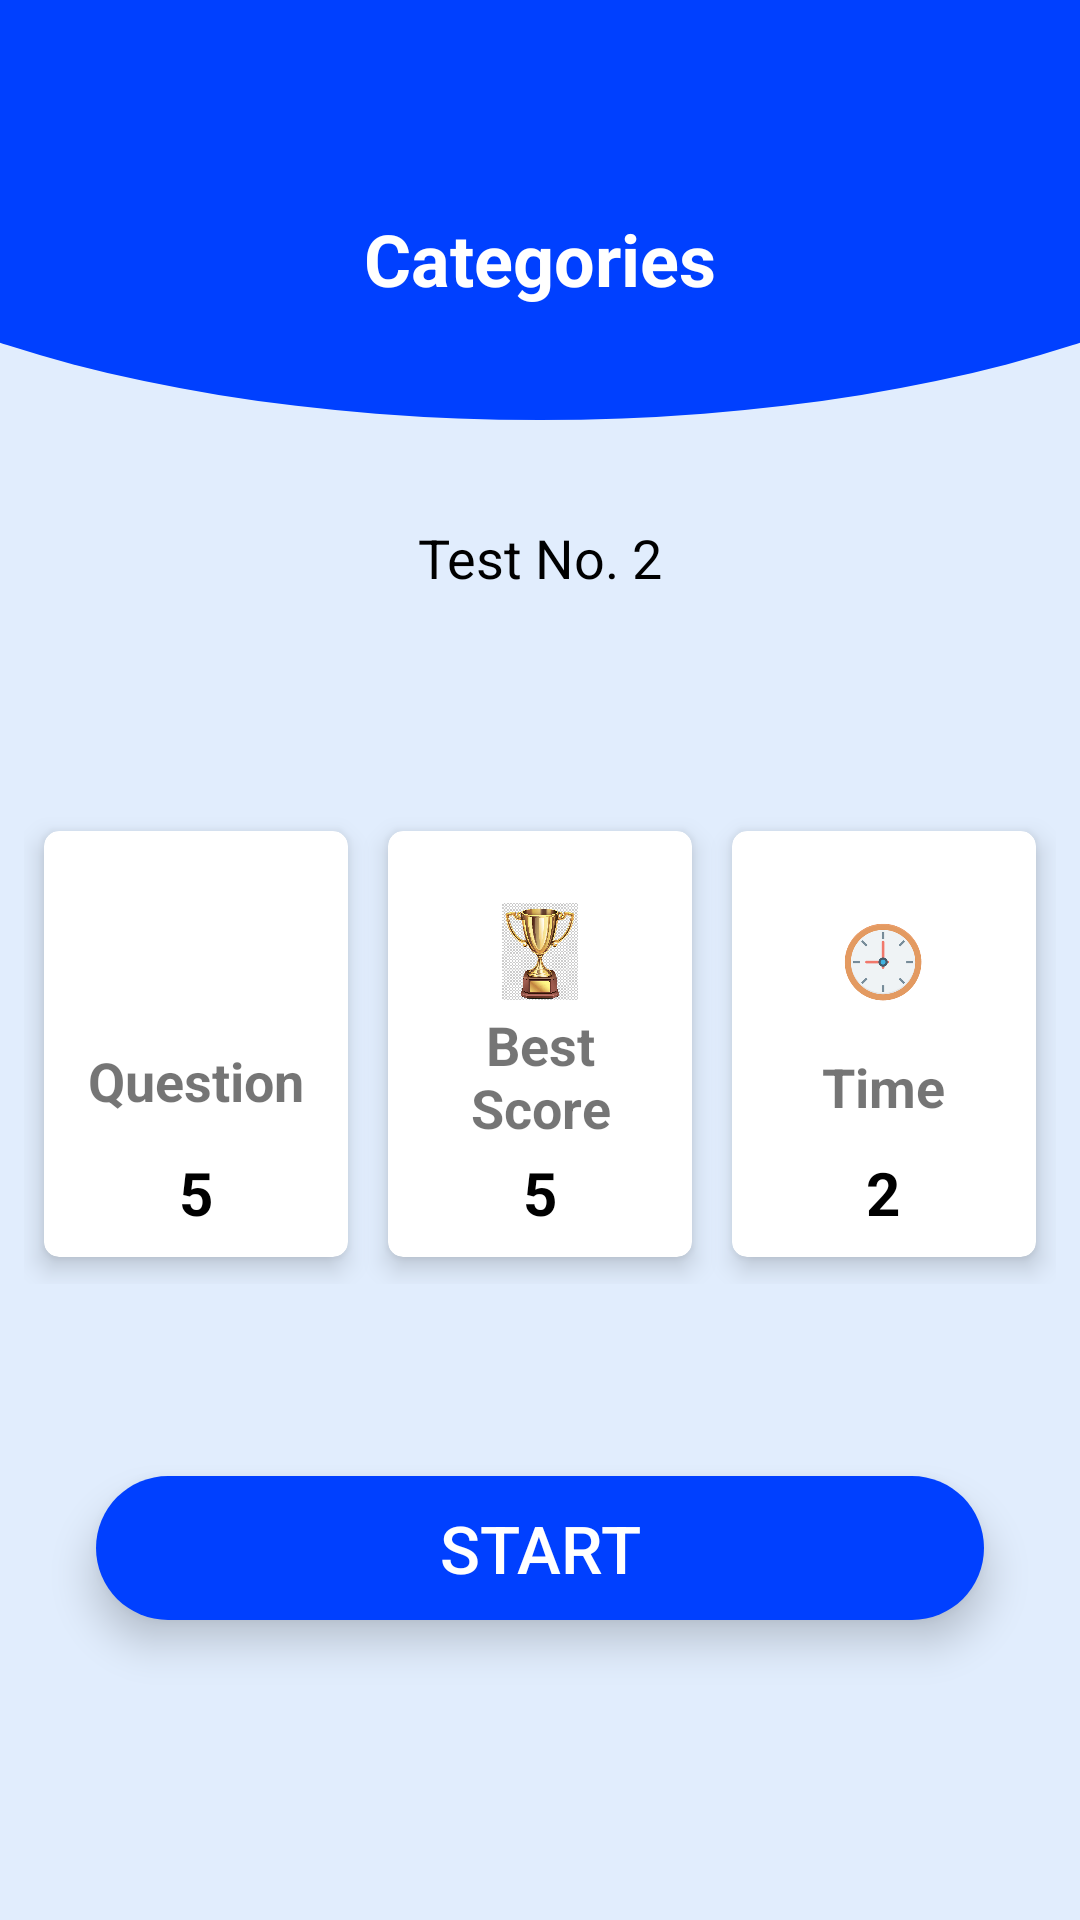

Icons on this 1080px×1920px Android screen, each with its box as (x1, y1, x2, y2):
award: (502, 903, 578, 1000)
